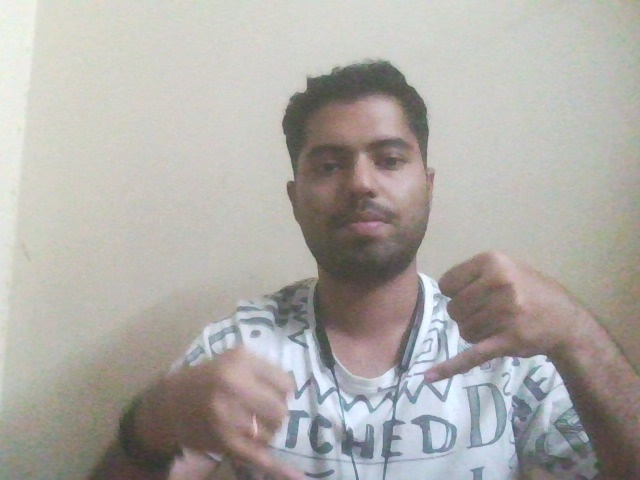L: (394, 223, 584, 406)
